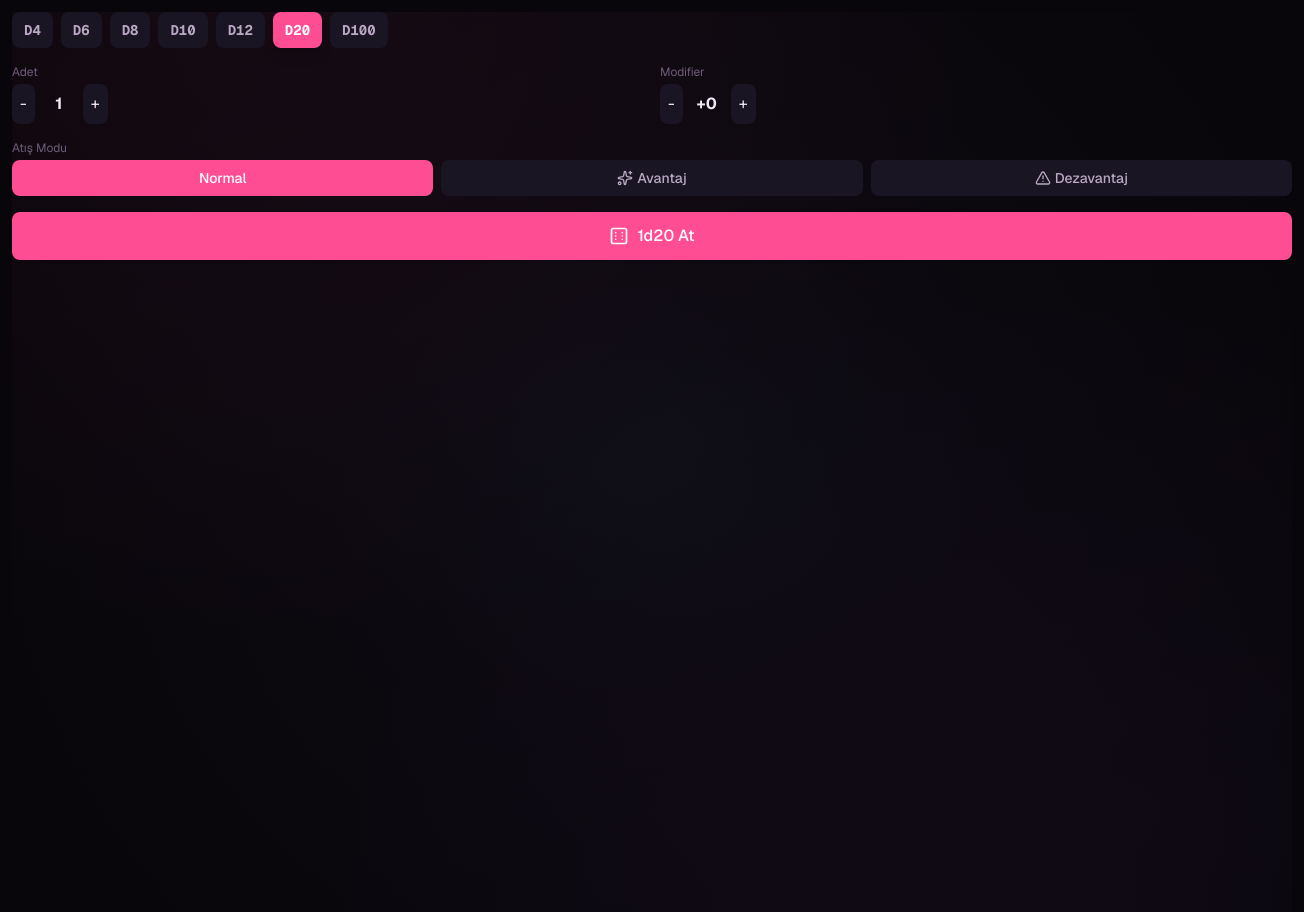
Test case: DiceRoller › hides advantage/disadvantage for non-d20 dice
The image size is (1304, 912).
Click the button "D6" at (81, 30), box x1=61 y1=12 x2=102 y2=48
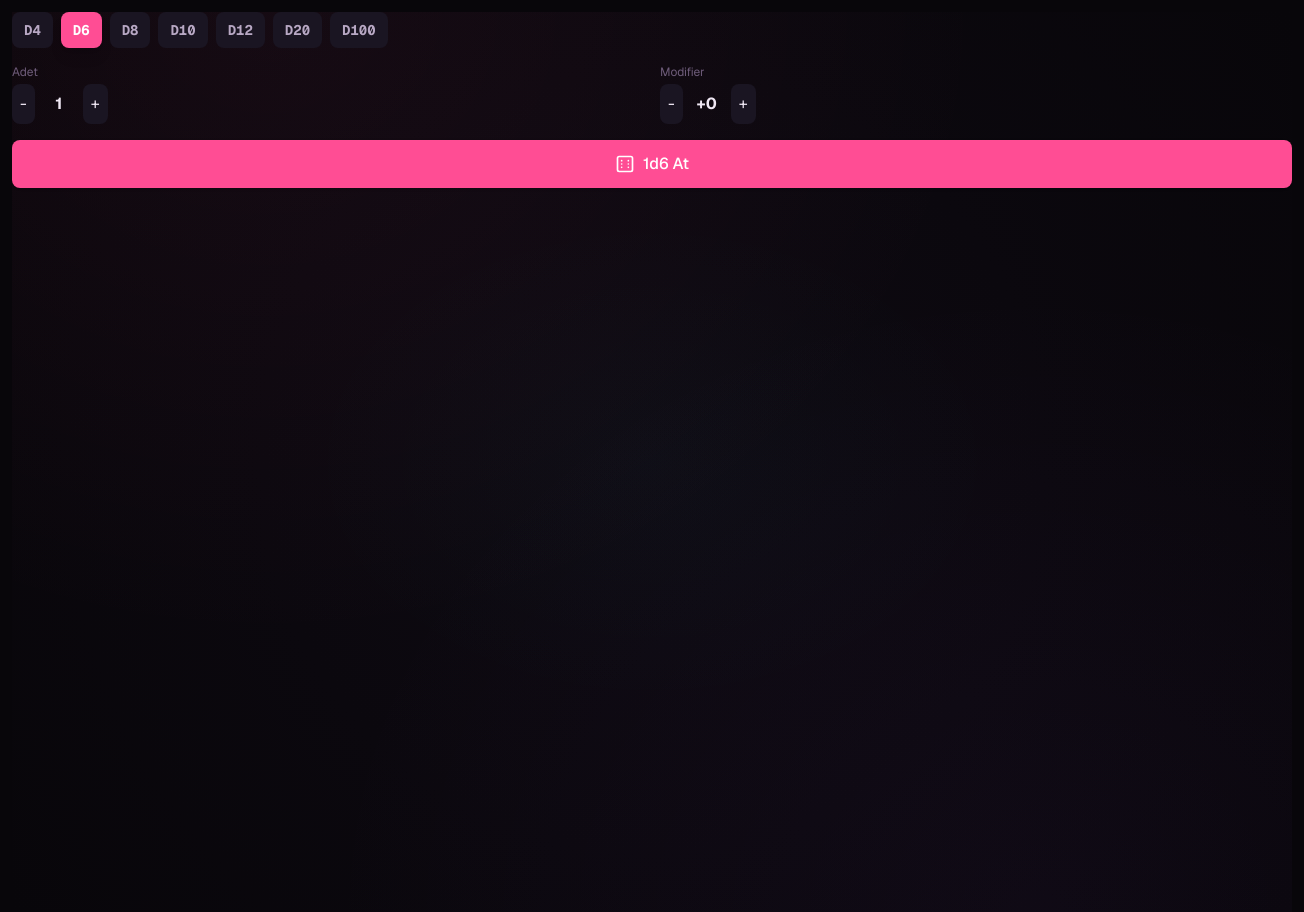
Expected: the button "Avantaj" is gone
